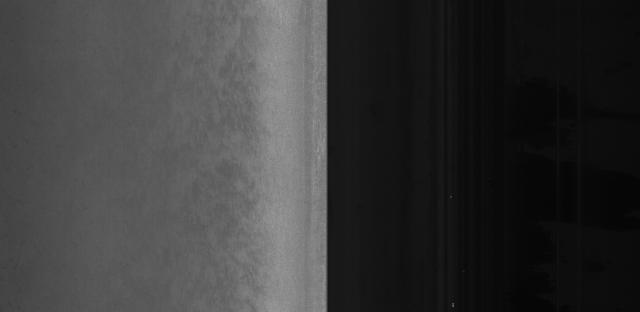silk_spot: (198, 52, 274, 210)
